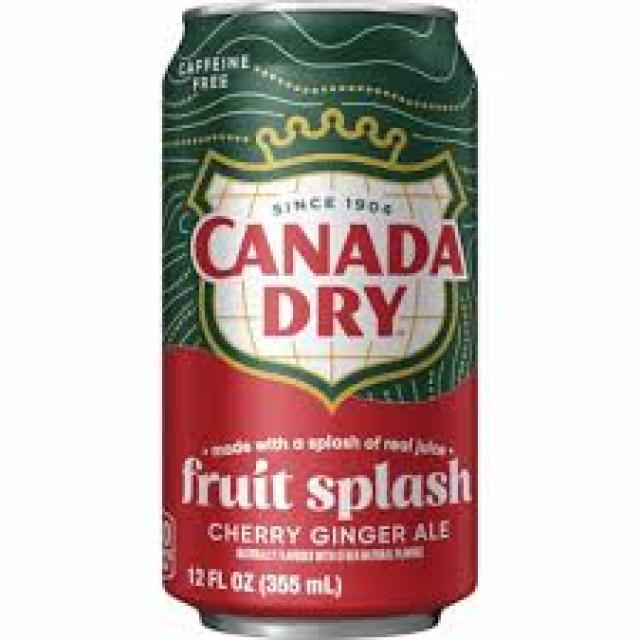Cans: (148, 3, 492, 640)
